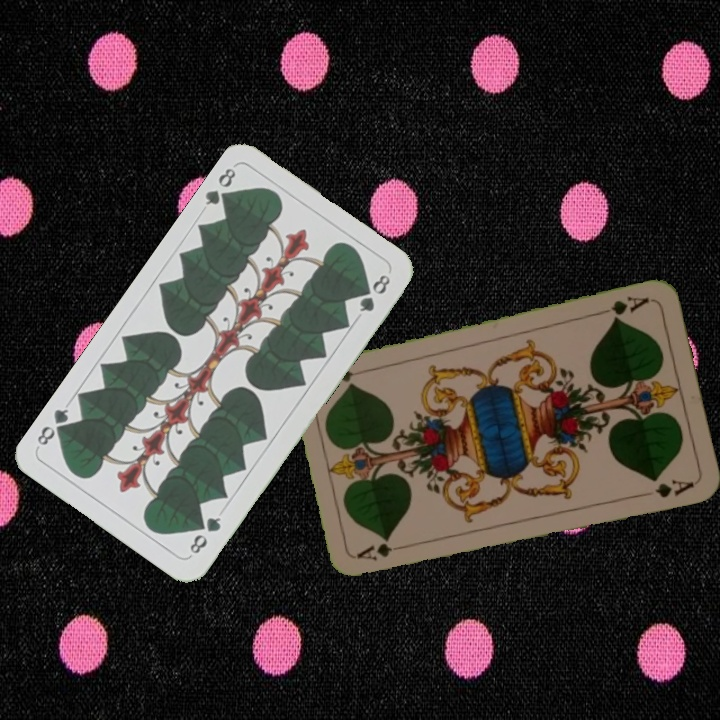G8: (185, 513, 224, 559), (201, 163, 239, 210)
GA: (595, 292, 652, 323), (353, 539, 412, 564)
